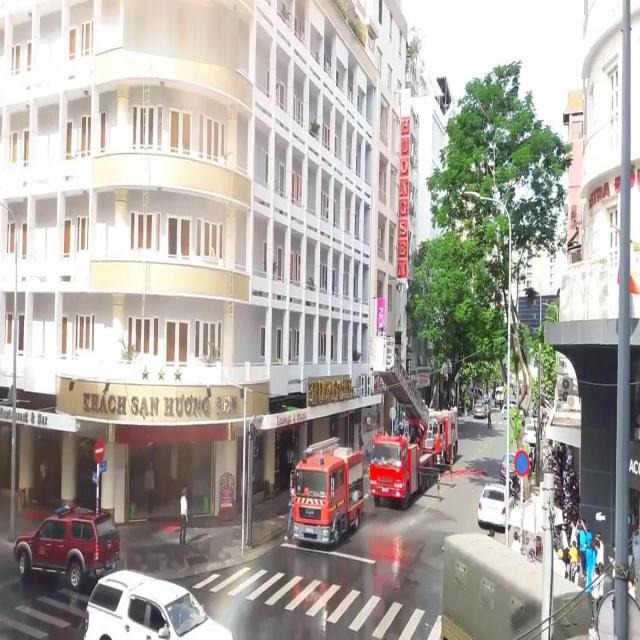car: (84, 570, 233, 640), (12, 504, 120, 590), (478, 481, 514, 531)
truck: (441, 531, 599, 640), (294, 436, 364, 548), (368, 407, 437, 509), (422, 407, 458, 469)
